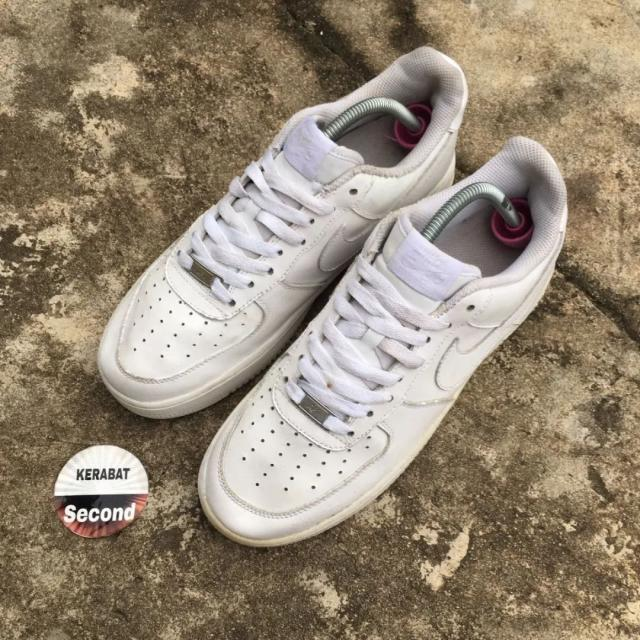nike original air force: (195, 134, 578, 546), (88, 53, 470, 427)
